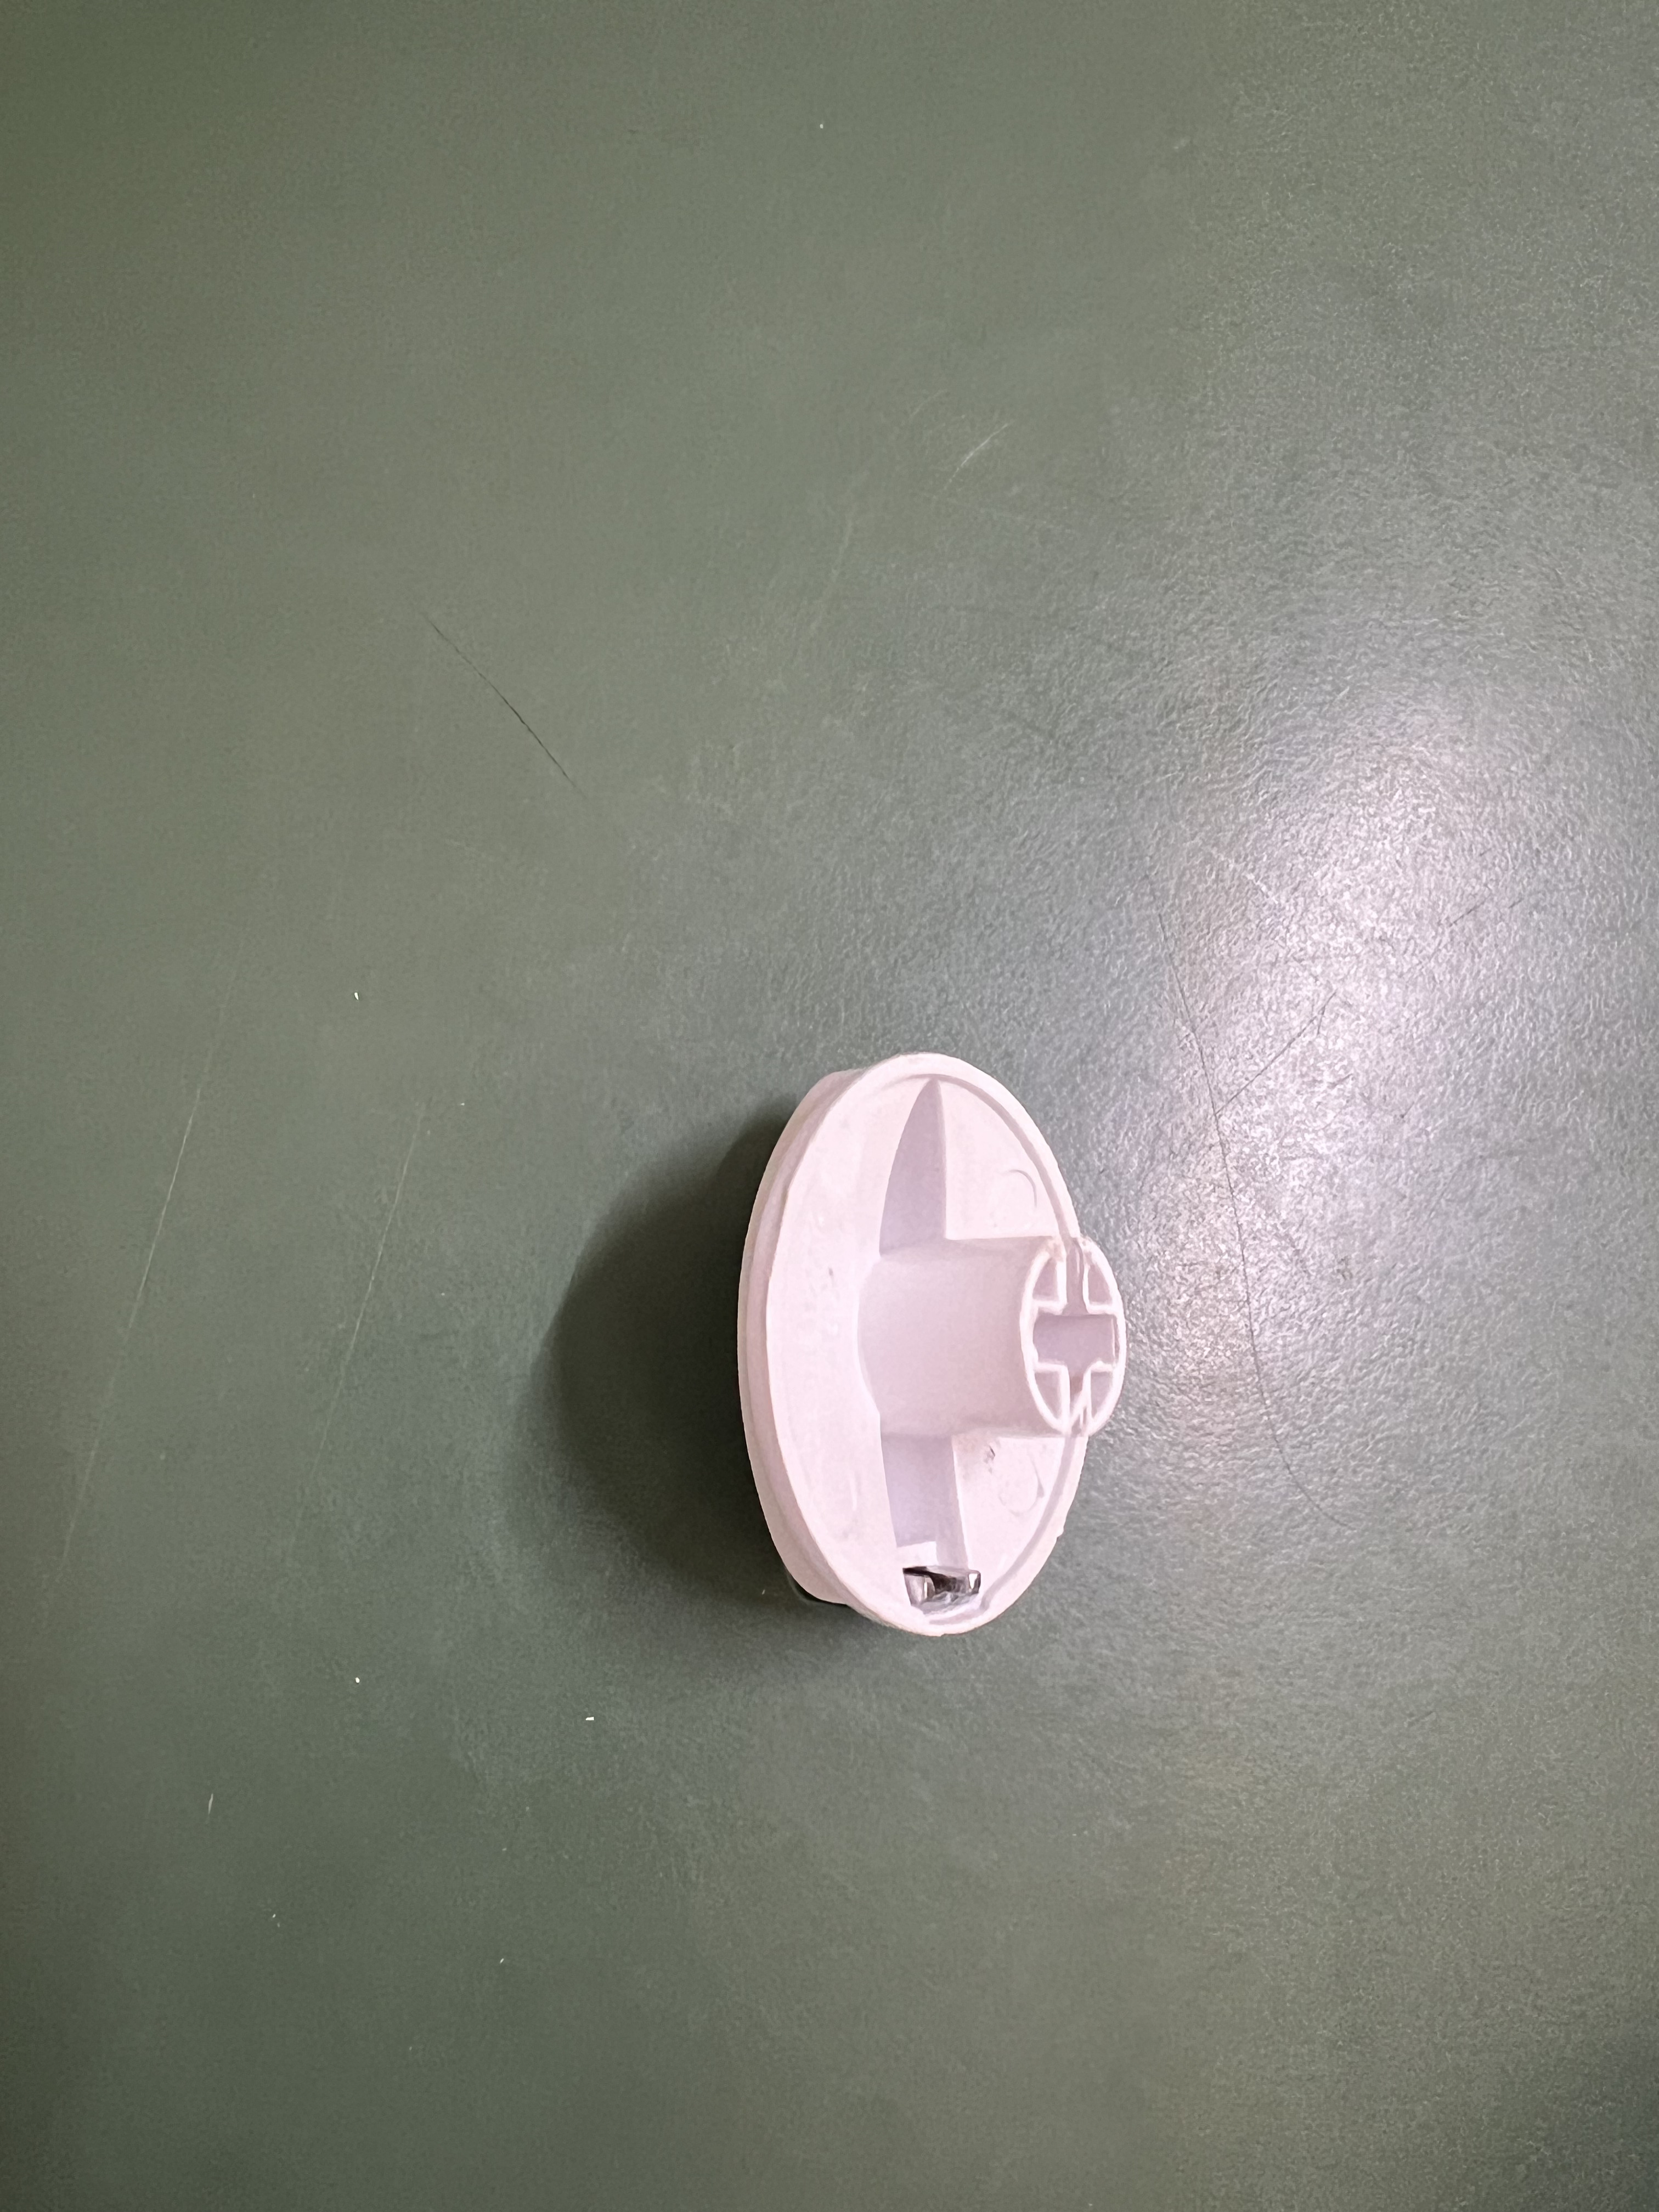regulator: (709, 1038, 1155, 1648)
